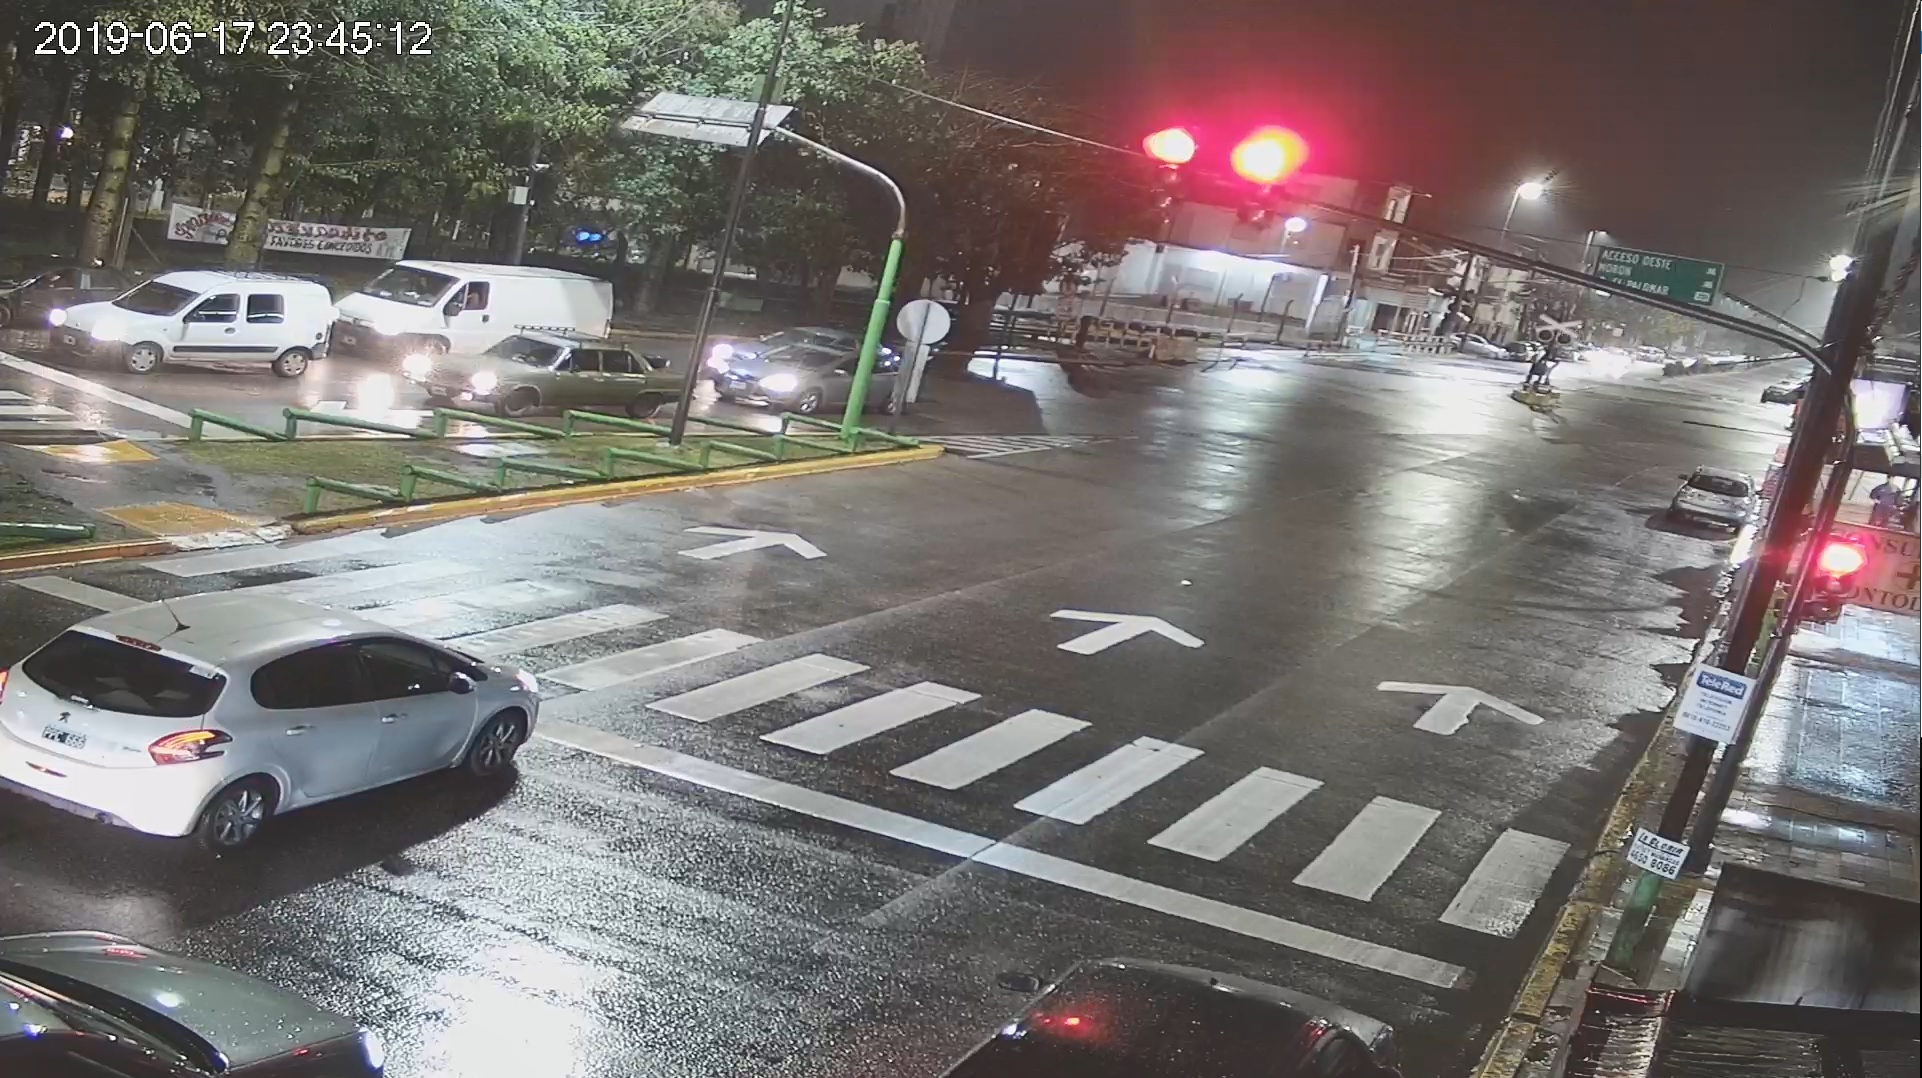car: (3, 578, 562, 844), (943, 932, 1405, 1078), (331, 249, 618, 372), (45, 265, 333, 383), (416, 329, 680, 433), (1663, 454, 1756, 536)
